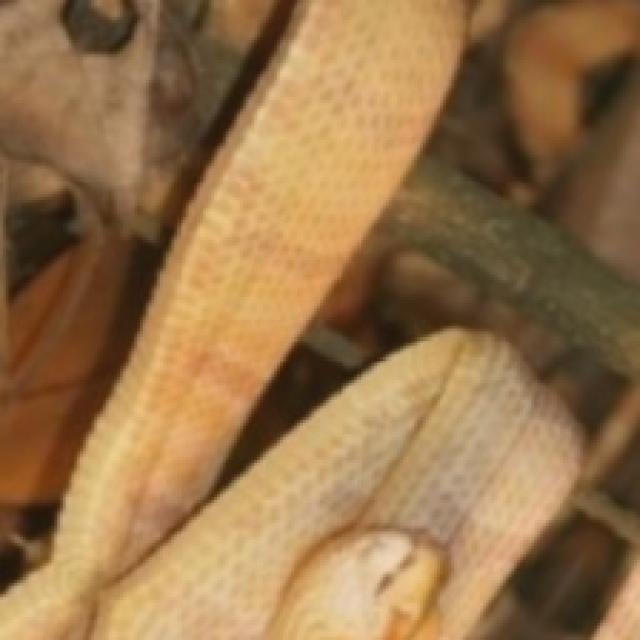dog-toothed cat snake: (0, 0, 577, 637)
